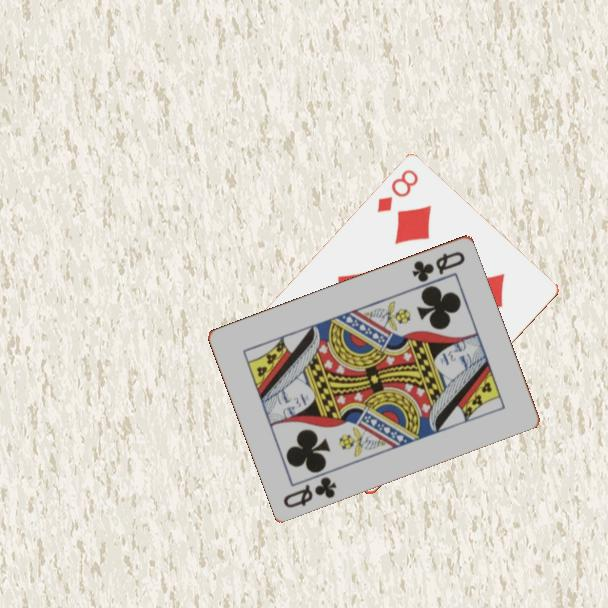c12: (409, 247, 468, 285), (280, 473, 340, 510)
d08: (373, 166, 421, 216)
